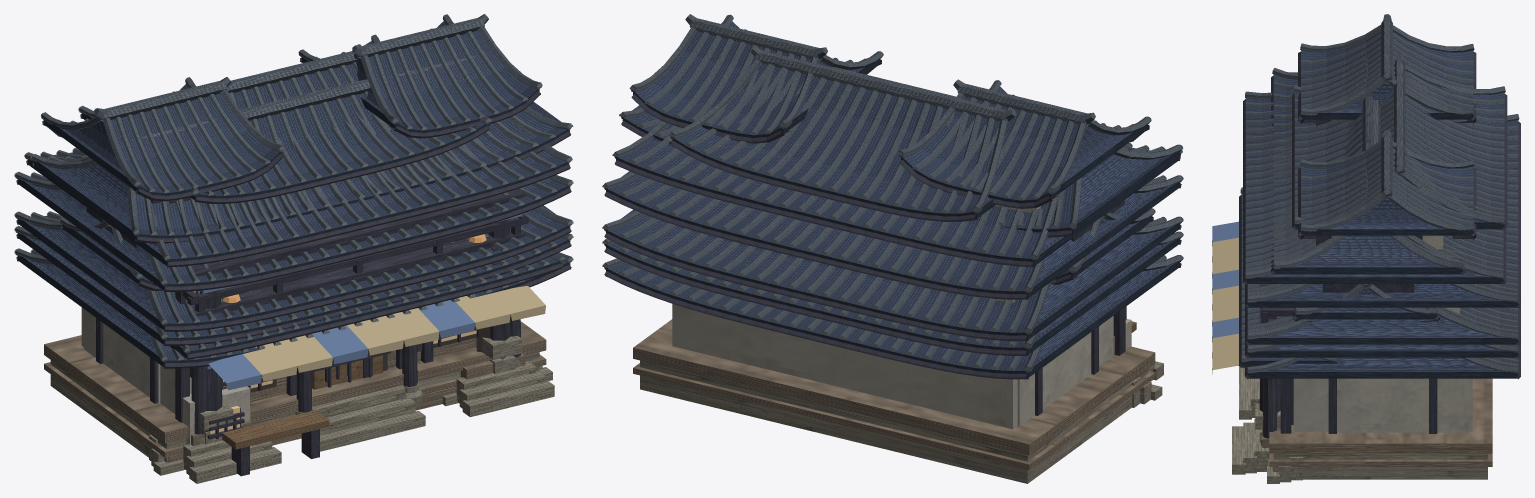
The model's file is regional_sword.glb.
3 renders of one model, left to right at view 1: azimuth 30°, elevation 25°; view 2: azimuth 150°, elevation 25°; view 3: azimuth 270°, elevation 25°, orthographic. The views are drawn at different scales.
Visible parts, largest first — view 1: hall, wing, inn, gate, shop, home, cottage; view 2: hall, wing, inn, home, cottage, gate; view 3: hall, wing, inn, gate, cottage, home, shop.
Part boxes in pixels (bbox=[...]): hall: bbox=[14, 14, 573, 483]; wing: bbox=[14, 34, 573, 460]; inn: bbox=[24, 80, 572, 462]; gate: bbox=[30, 50, 573, 475]; shop: bbox=[144, 286, 545, 476]; home: bbox=[14, 225, 573, 444]; cottage: bbox=[14, 248, 573, 369]; hall: bbox=[602, 14, 1183, 483]; wing: bbox=[602, 46, 1183, 483]; inn: bbox=[612, 121, 1182, 426]; home: bbox=[602, 231, 1183, 428]; cottage: bbox=[602, 255, 1183, 379]; gate: bbox=[619, 67, 1183, 407]; hall: bbox=[1232, 14, 1520, 479]; wing: bbox=[1245, 53, 1520, 479]; inn: bbox=[1239, 89, 1506, 471]; gate: bbox=[1267, 47, 1465, 483]; cottage: bbox=[1245, 356, 1520, 424]; home: bbox=[1245, 343, 1520, 433]; shop: bbox=[1212, 221, 1303, 374].
Bounding box in the file's own units: 2.25 × 1.56 × 1.48.
1 material, 1 textured.
